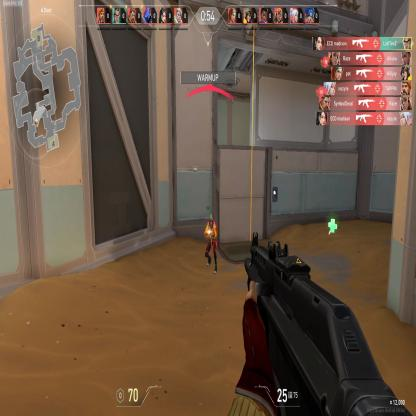enemy: (203, 212, 218, 274)
